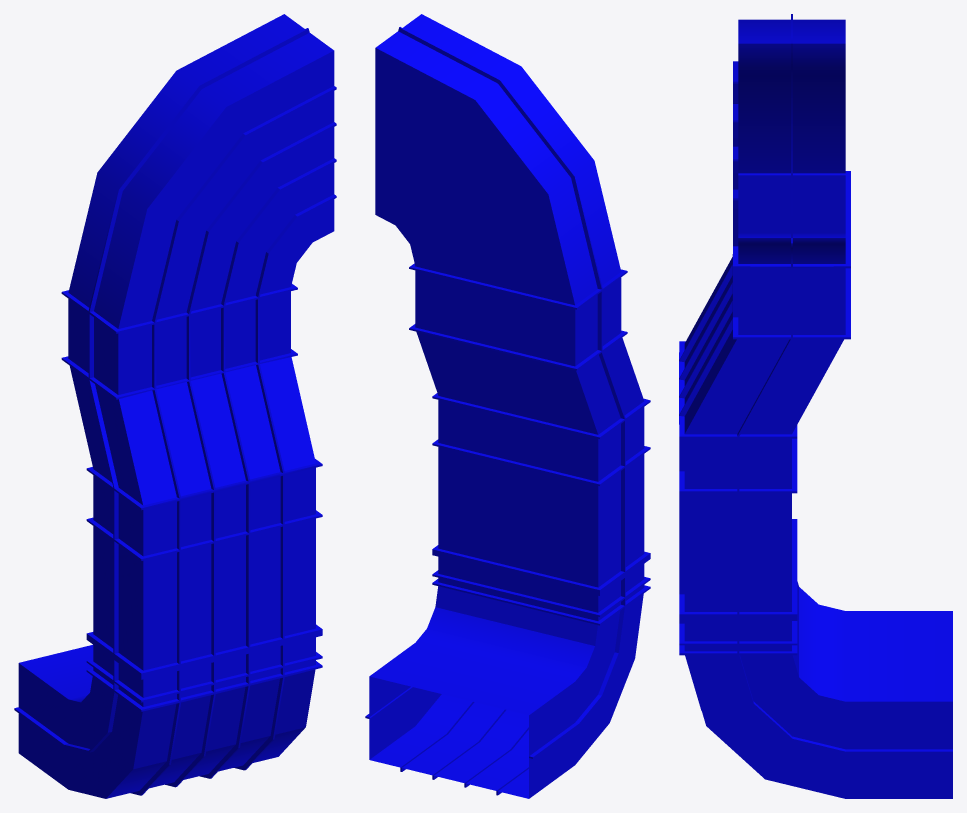
Rendered from Bof_VentLeft.fbx.
3 views of the same model, side by side, from view 1: azimuth 30°, elevation 25°; view 2: azimuth 150°, elevation 25°; view 3: azimuth 270°, elevation 25° (orthographic). The views are drawn at different scales.
Parts seen in each view (by area): view 1: Bof_VentLeft; view 2: Bof_VentLeft; view 3: Bof_VentLeft.
Part boxes in pixels (x1,y1,x2,y2): Bof_VentLeft: [14, 14, 336, 798]; Bof_VentLeft: [365, 14, 650, 798]; Bof_VentLeft: [679, 14, 952, 798].
Bounding box in the file's own units: 256 × 810 × 255.
